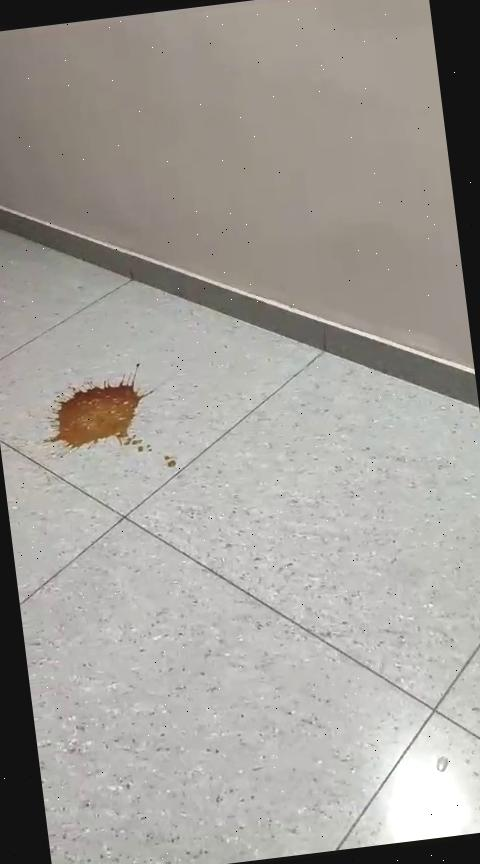dirty_floor: (30, 354, 176, 488)
